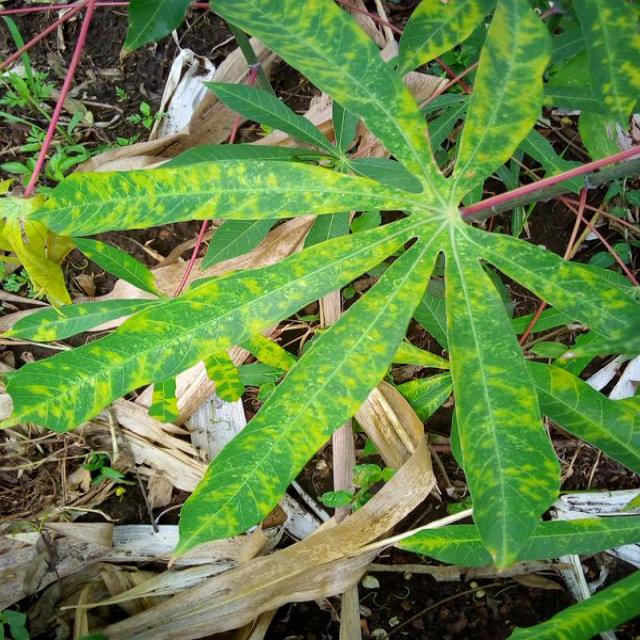cassava leaf: (1, 0, 638, 571)
